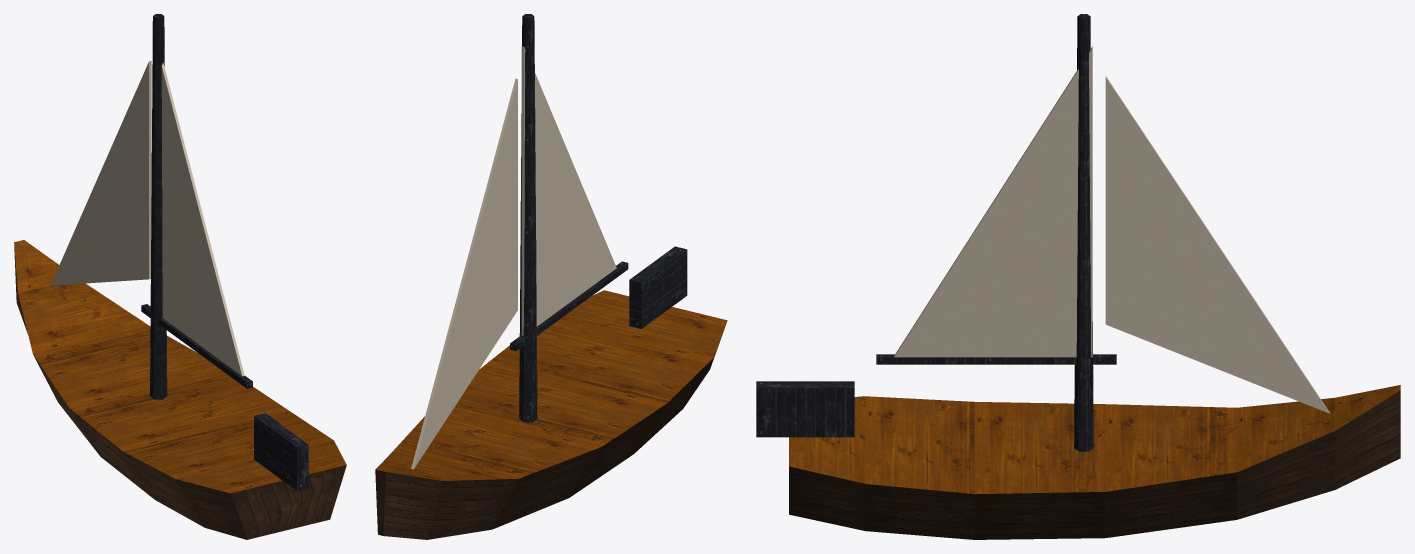
File: sail_boat_01.glb
The picture shows the model from 3 angles, left to right: view 1: azimuth 30°, elevation 25°; view 2: azimuth 150°, elevation 25°; view 3: azimuth 270°, elevation 25°; orthographic projection. The views are drawn at different scales.
Parts seen in each view (by area): view 1: sail_boat_01; view 2: sail_boat_01; view 3: sail_boat_01.
Part boxes in pixels (bbox=[...]): sail_boat_01: bbox=[14, 14, 346, 539]; sail_boat_01: bbox=[375, 14, 727, 539]; sail_boat_01: bbox=[756, 14, 1400, 539].
Size of the model in its own units: 2 by 5 by 5.9.
Materials: 4 (4 with a texture image).
